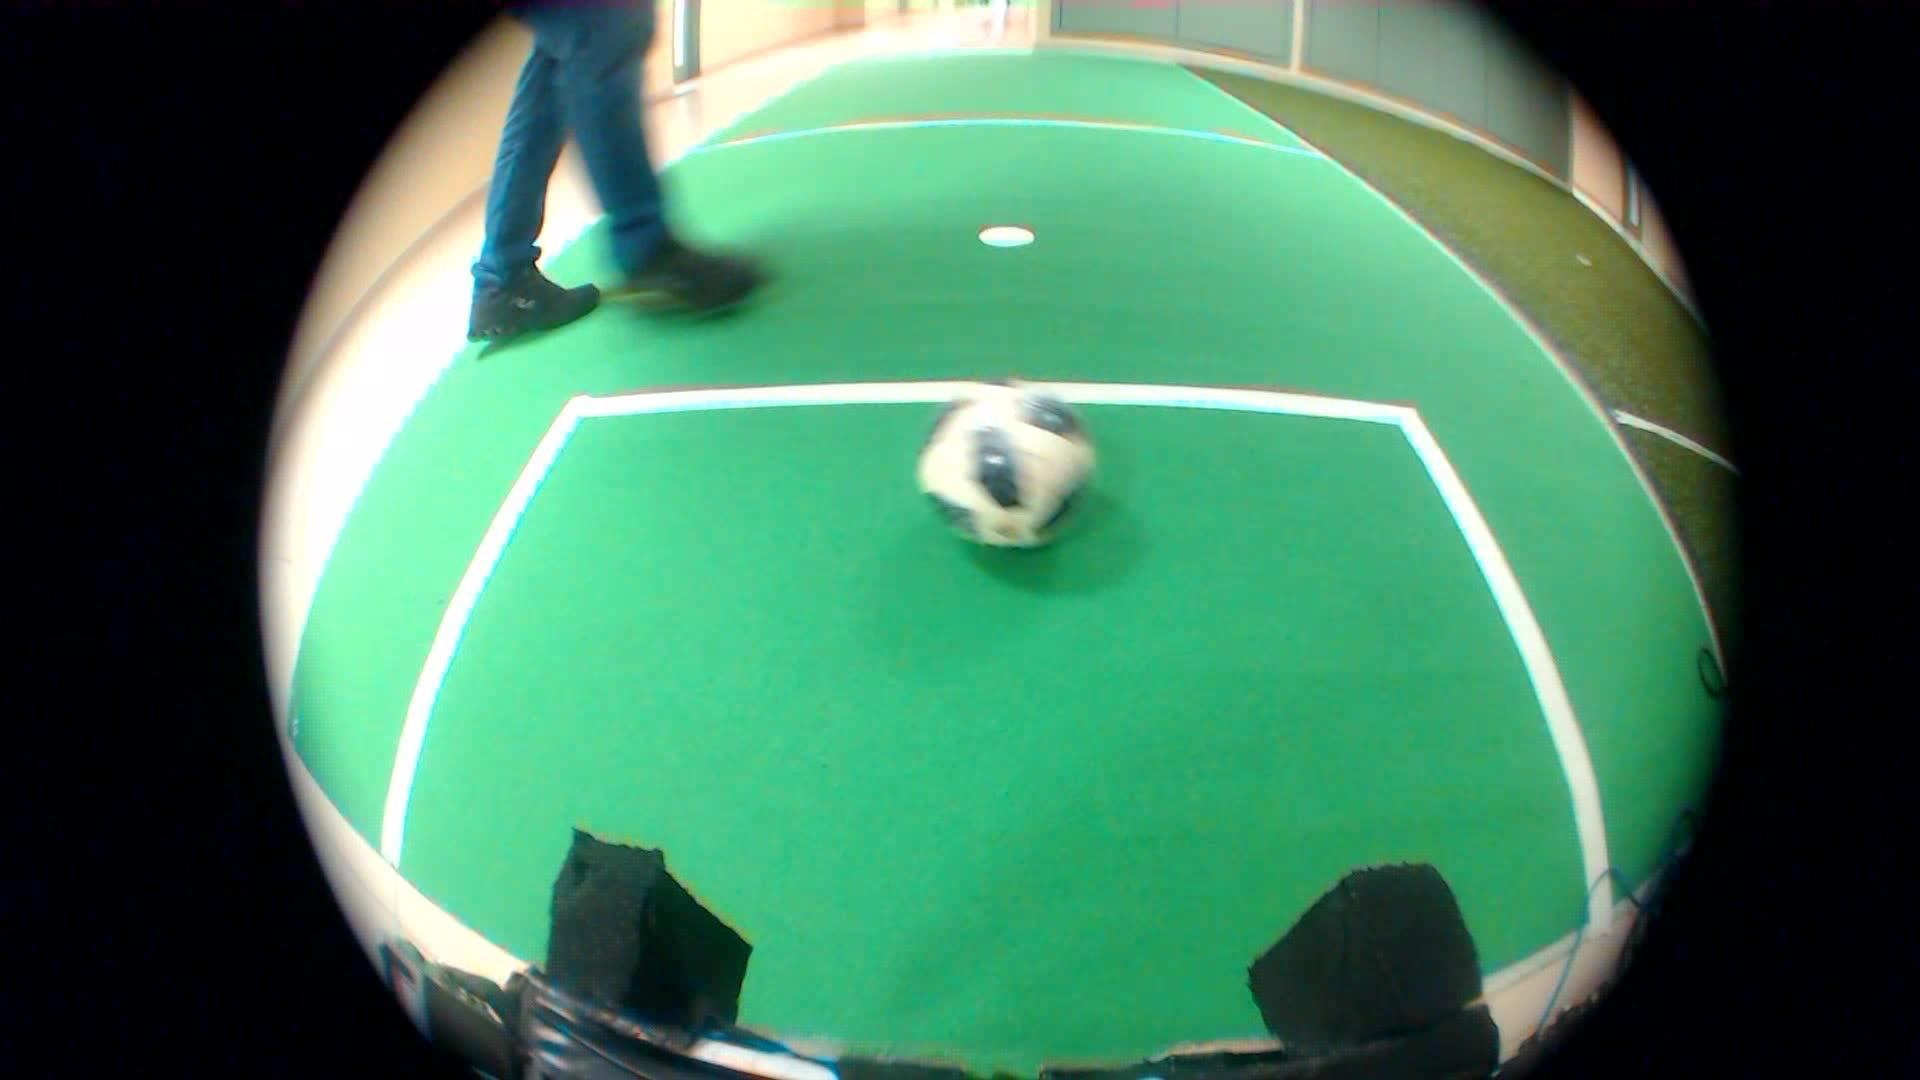ball: (905, 382, 1112, 567)
